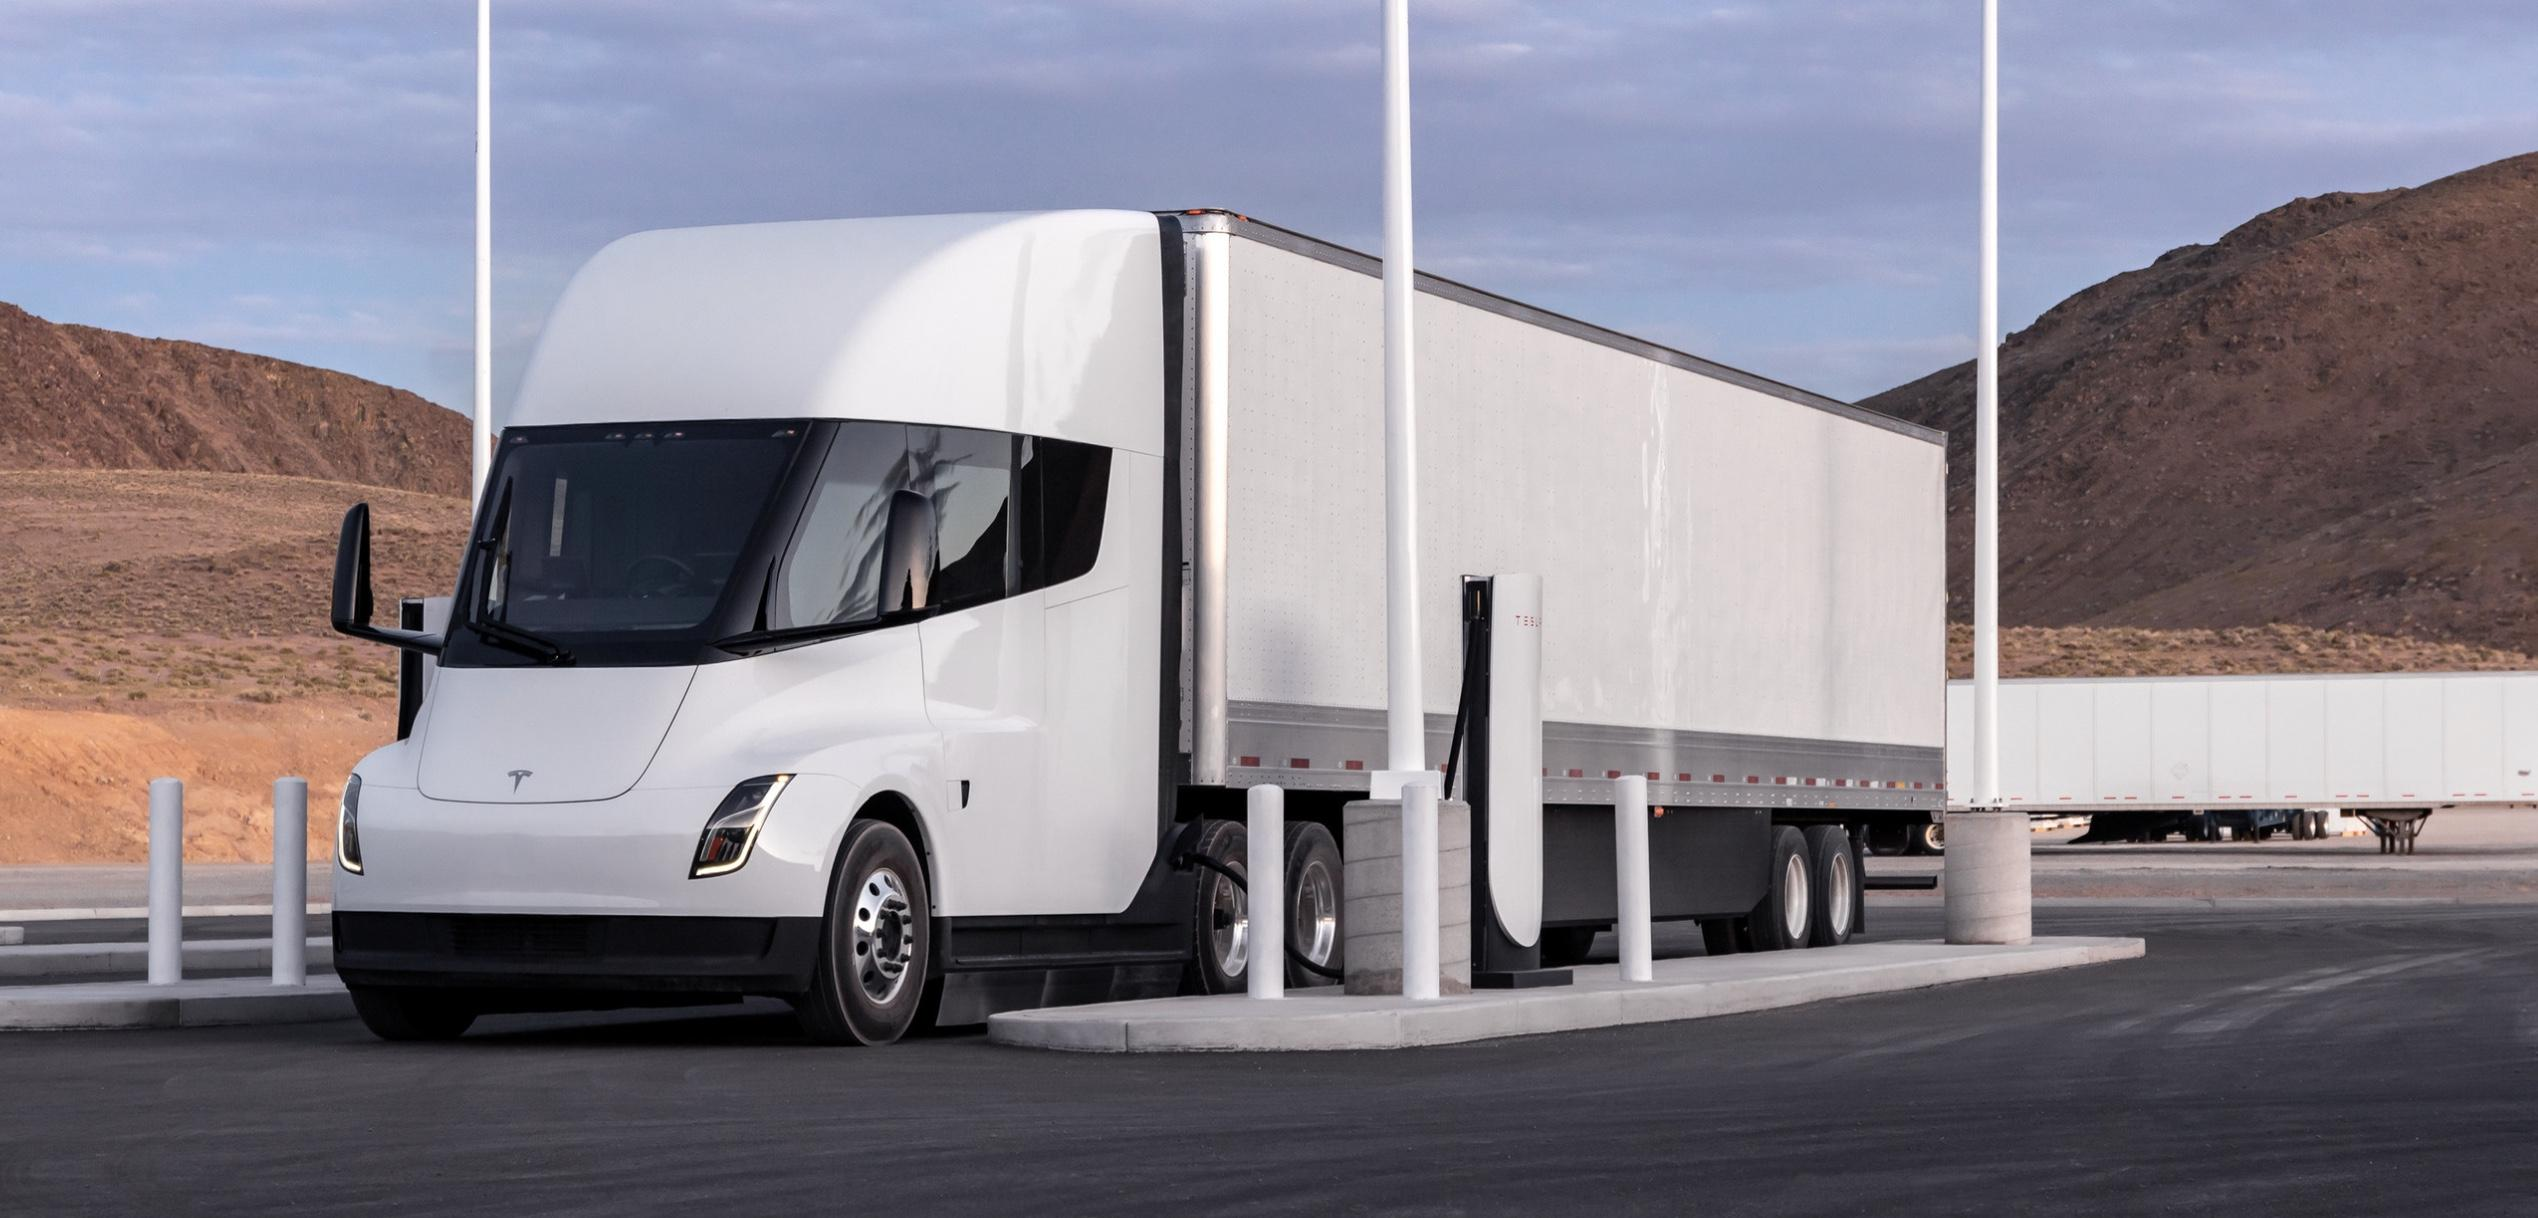truck: (330, 204, 1942, 1051)
